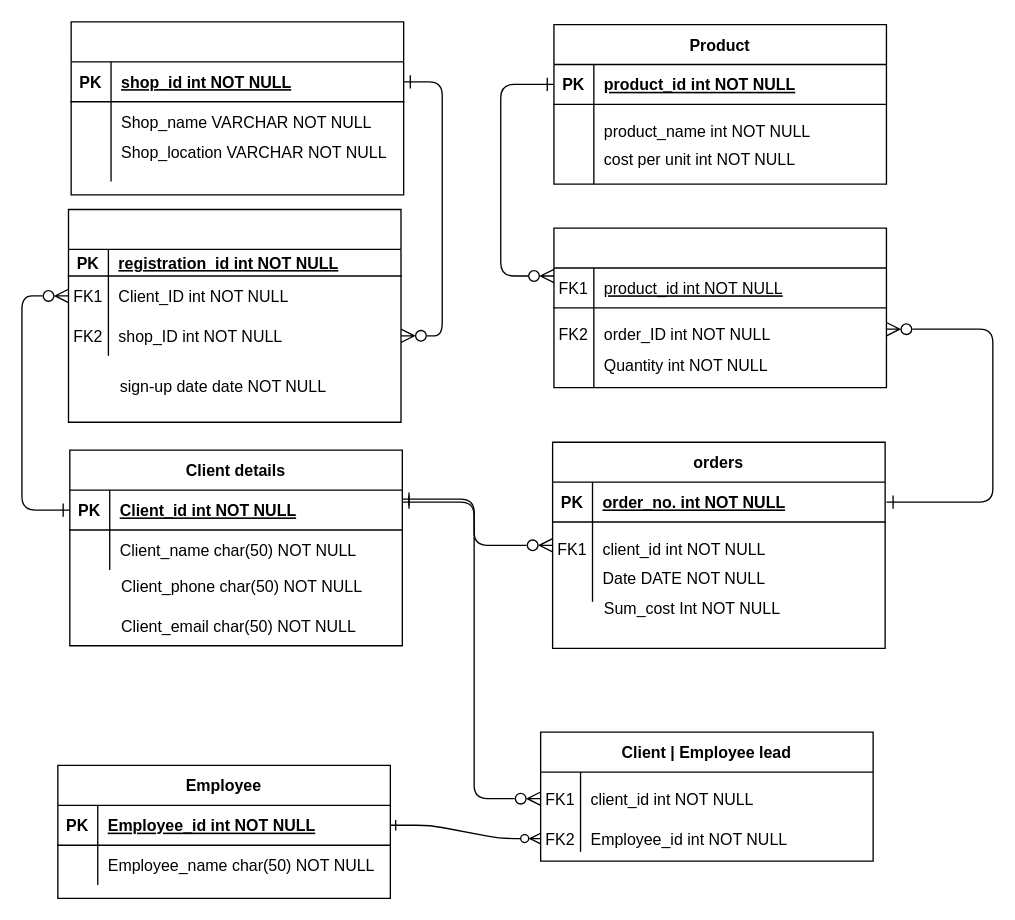
The diagram is 1015 pixels wide and 920 high, and some of its shapes have lost their labels. The box of each missing label's shape, as (x1, y1, x2, y2) in pixels:
Sales_items: (553, 227, 886, 388)
Shop details: (70, 21, 404, 195)
Shop | Client: (67, 208, 401, 422)
